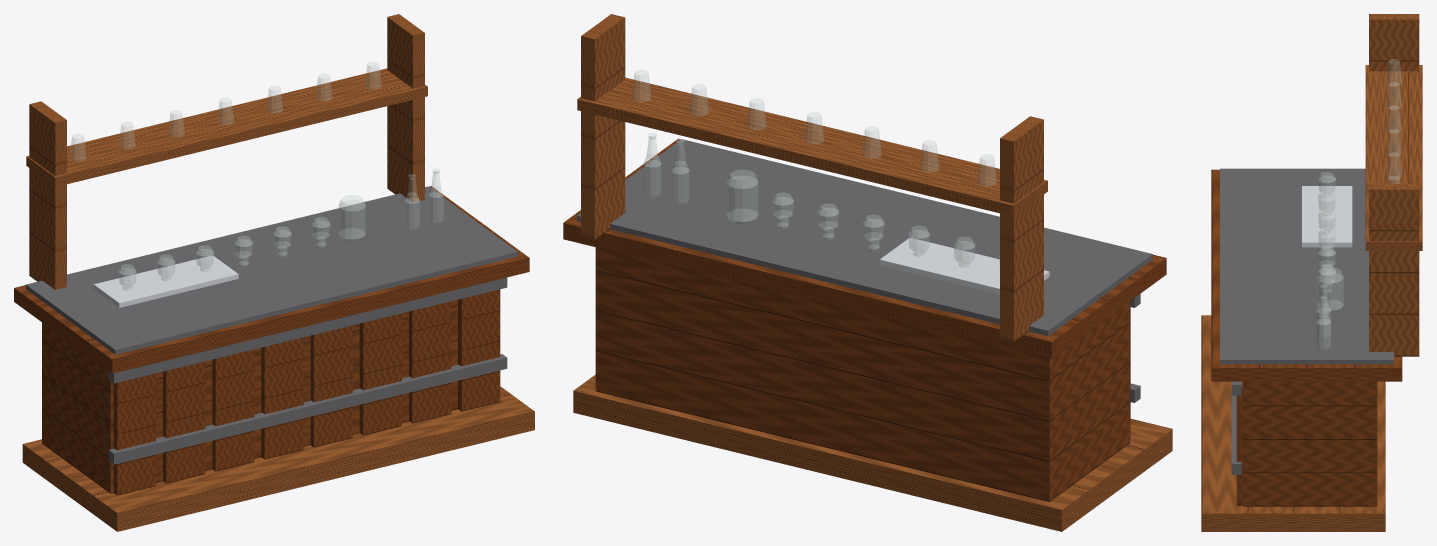
File: distillery-and-bonded-warehouse-tasting-counter-5c8e94aa.glb
3 views of the same model, side by side, from view 1: azimuth 30°, elevation 25°; view 2: azimuth 150°, elevation 25°; view 3: azimuth 270°, elevation 25° (orthographic). The views are drawn at different scales.
Parts seen in each view (by area): view 1: tasting-counter-oak, tasting-counter-timber, tasting-counter-iron, tasting-counter-glass, tasting-counter-steel; view 2: tasting-counter-oak, tasting-counter-timber, tasting-counter-iron, tasting-counter-glass, tasting-counter-steel; view 3: tasting-counter-timber, tasting-counter-iron, tasting-counter-oak, tasting-counter-glass, tasting-counter-steel.
Boxes of the visible parts, x1,y1,x2,y2 form: tasting-counter-oak: (14,186,529,495); tasting-counter-timber: (22,14,534,531); tasting-counter-iron: (26,186,517,464); tasting-counter-glass: (70,62,443,290); tasting-counter-steel: (93,255,238,307); tasting-counter-oak: (563,139,1166,501); tasting-counter-timber: (573,14,1172,531); tasting-counter-iron: (577,139,1152,402); tasting-counter-glass: (632,70,999,267); tasting-counter-steel: (879,237,1049,294); tasting-counter-timber: (1201,14,1422,531); tasting-counter-iron: (1220,168,1393,474); tasting-counter-oak: (1211,169,1402,506); tasting-counter-glass: (1316,59,1401,349); tasting-counter-steel: (1302,186,1352,247).
Bounding box in the file's own units: 2.8 × 2.18 × 1.32.
Materials: 5 (2 with a texture image).
